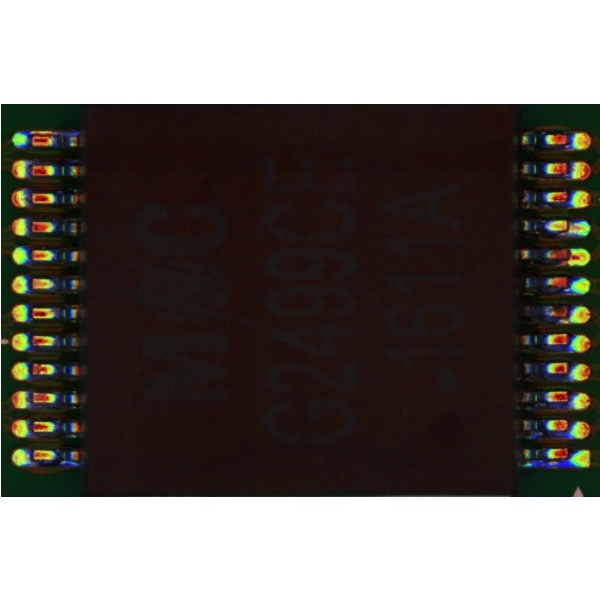Bad_podu: (558, 223, 575, 231), (563, 252, 577, 261)
Bad_qiaojiao: (29, 130, 77, 136), (524, 461, 567, 467)
